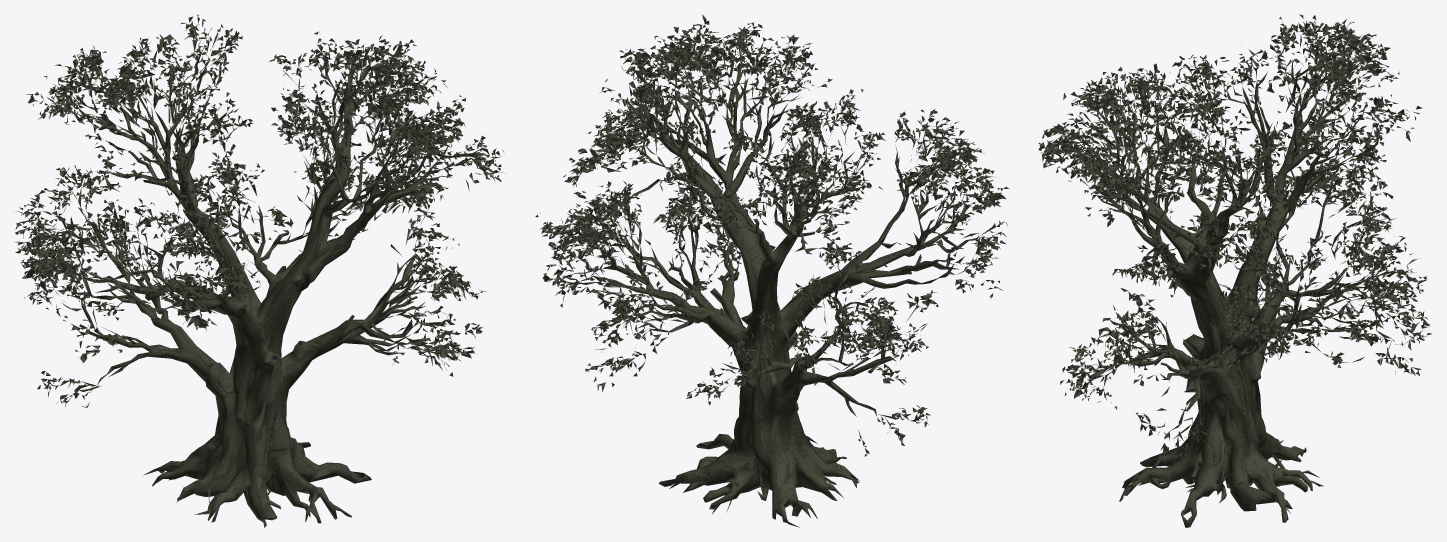
Rendered from tree_world.glb.
3 views of the same model, side by side, from view 1: azimuth 30°, elevation 25°; view 2: azimuth 150°, elevation 25°; view 3: azimuth 270°, elevation 25° (orthographic). The views are drawn at different scales.
Parts seen in each view (by area): view 1: tree_world; view 2: tree_world; view 3: tree_world.
Boxes of the visible parts, <box> form: tree_world: <box>15,14,504,527</box>; tree_world: <box>535,14,1009,527</box>; tree_world: <box>1038,14,1431,527</box>.
Bounding box in the file's own units: 184 × 183 × 145.
1 material, 1 textured.
